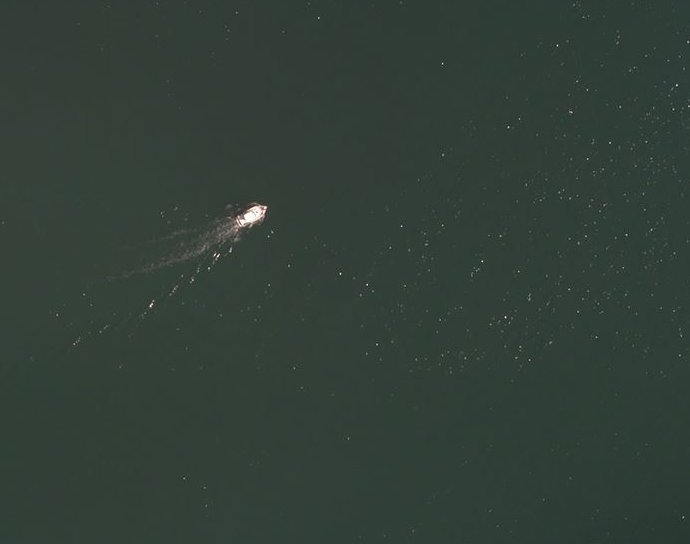ship: (233, 201, 273, 232)
